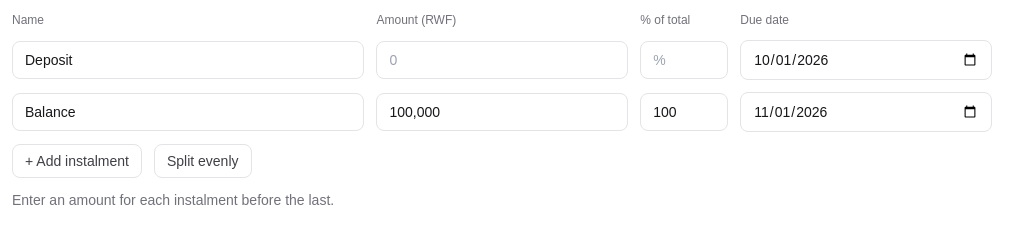
Scenario: InstallmentsEditor › turns a percentage into an amount
Type "30" into the field named "Percent for instalment 1". click: (684, 60)
box: [640, 41, 728, 79]
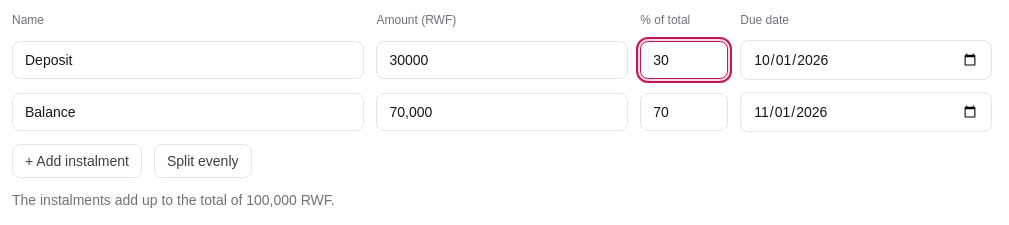
Result: the field named "Amount for instalment 1" holds "30000" at [376, 41, 628, 79]
Result: the field named "Amount for instalment 2" holds "70,000" at [376, 93, 628, 131]
